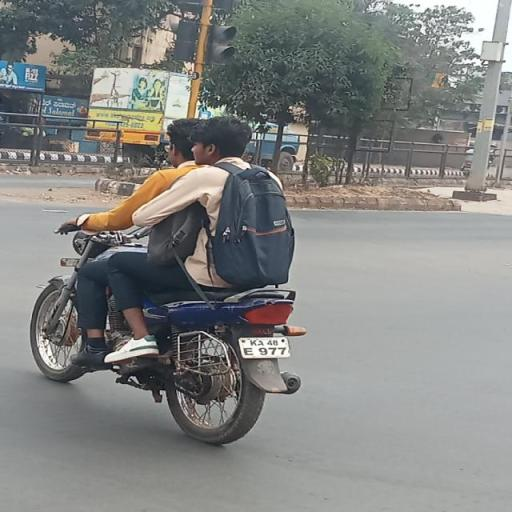bike: (22, 113, 328, 445)
numberplate: (237, 336, 291, 358)
withouthelmet: (196, 118, 246, 156), (168, 118, 190, 164)
